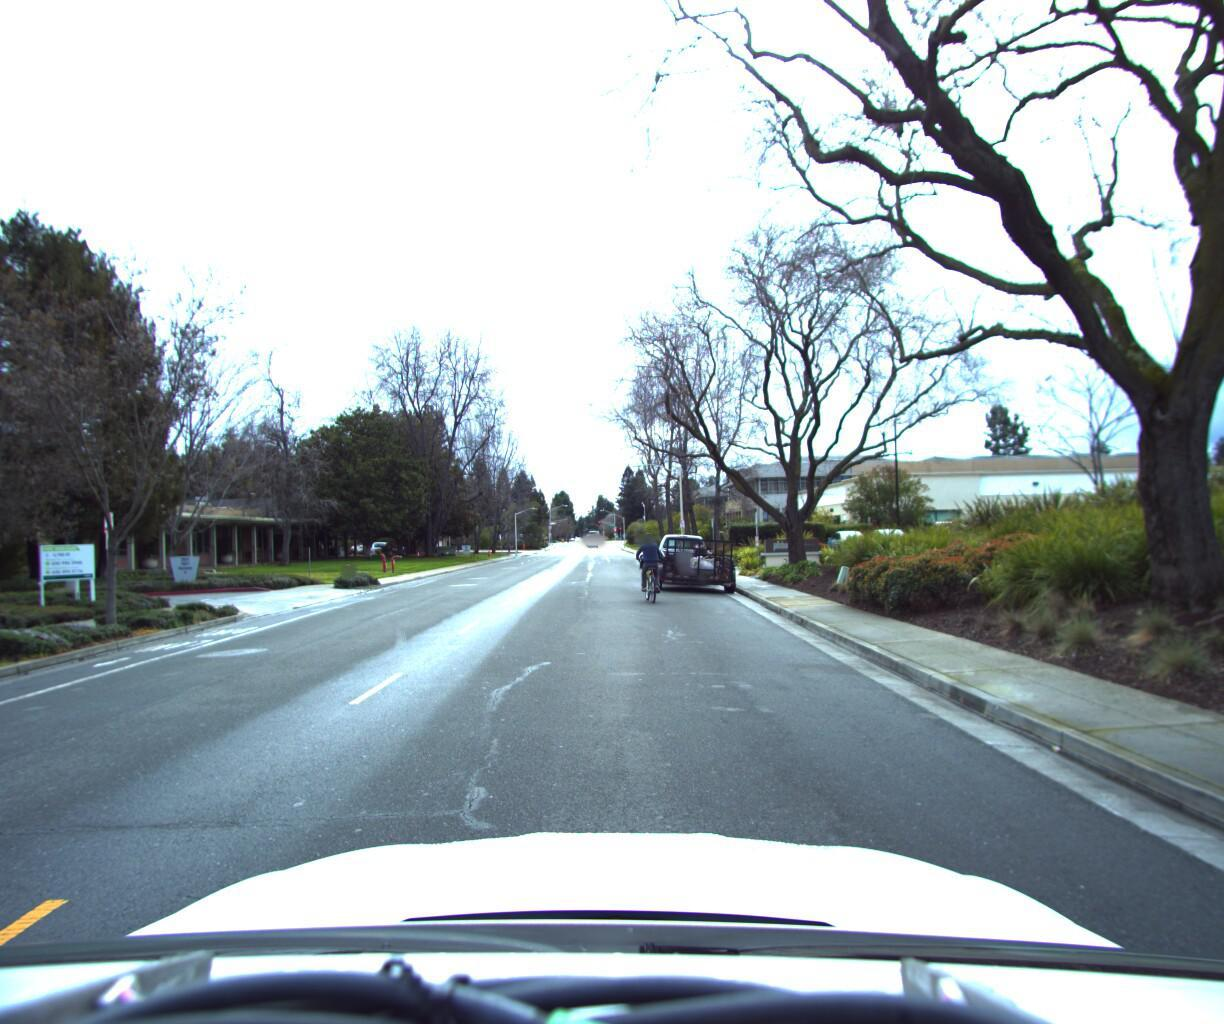bicycle: (630, 529, 670, 604)
car: (647, 526, 746, 591)
